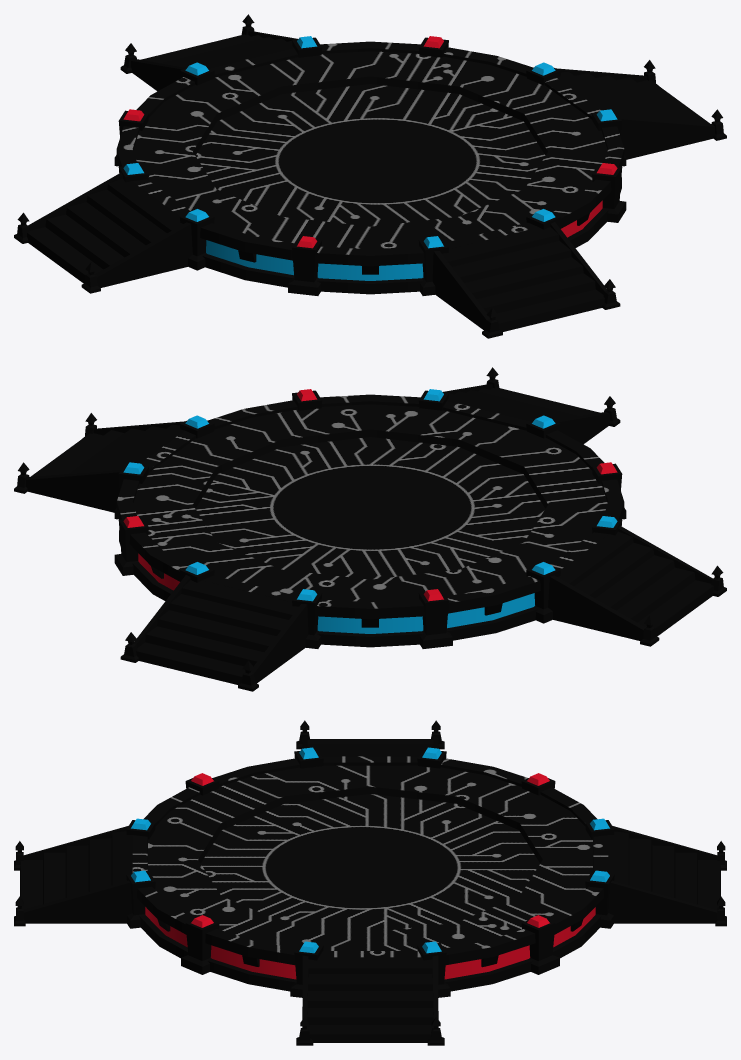
Rendered from Center_base.fbx.
3 views of the same model, one above another, from view 1: azimuth 30°, elevation 25°; view 2: azimuth 150°, elevation 25°; view 3: azimuth 270°, elevation 25° (orthographic). The views are drawn at different scales.
Visible parts, largest first — view 1: Center_base3; view 2: Center_base3; view 3: Center_base3.
Part boxes in pixels (box(x1,y1,x2,y2)): Center_base3: box(14, 14, 726, 338); Center_base3: box(14, 367, 726, 691); Center_base3: box(14, 720, 726, 1045).
Bounding box in the file's own units: 9.17 × 0.6744 × 9.17.
Materials: 1 (1 with a texture image).
